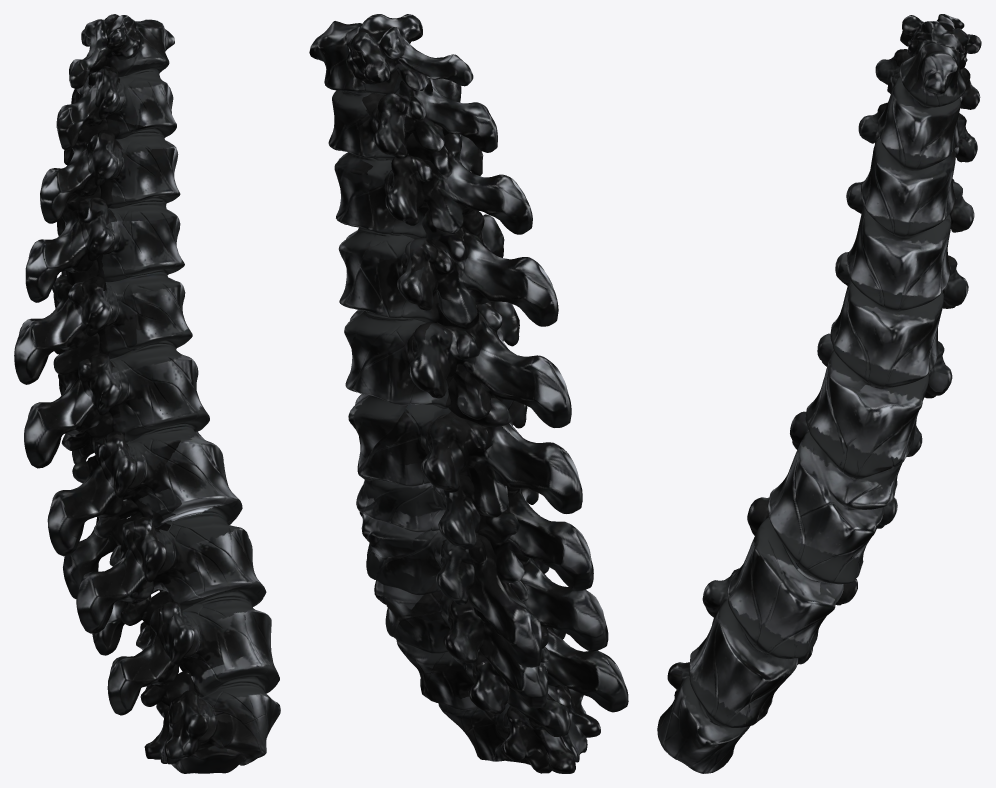
The model's file is spine-desktop.glb.
3 views of the same model, side by side, from view 1: azimuth 30°, elevation 25°; view 2: azimuth 150°, elevation 25°; view 3: azimuth 270°, elevation 25° (orthographic). The views are drawn at different scales.
Parts seen in each view (by area): view 1: tripo_node_fd81abb5; view 2: tripo_node_fd81abb5; view 3: tripo_node_fd81abb5.
Part boxes in pixels (left/top/right/bottom): tripo_node_fd81abb5: left=14, top=14, right=280, bottom=773; tripo_node_fd81abb5: left=309, top=14, right=628, bottom=773; tripo_node_fd81abb5: left=657, top=14, right=981, bottom=773.
Bounding box in the file's own units: 0.3295 × 1.09 × 0.4311.
1 material, 1 textured.
